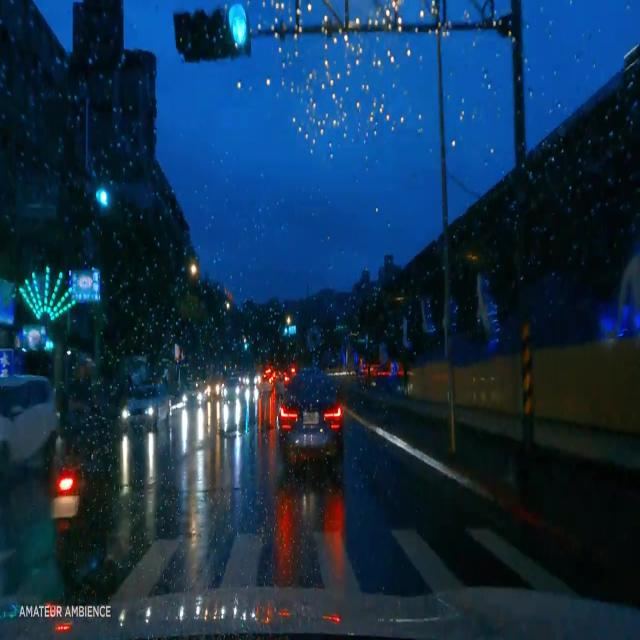Car: (274, 376, 341, 464), (2, 377, 49, 476), (119, 380, 168, 439), (221, 371, 242, 402)
